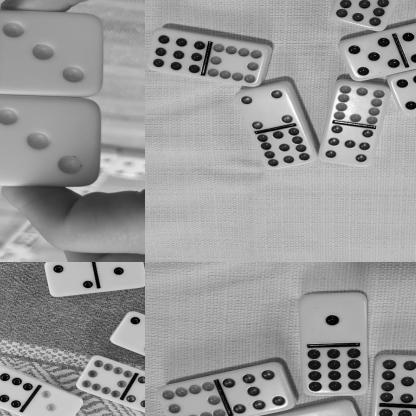pip-1: (299, 292, 367, 345), (96, 262, 145, 288)
pip-10: (207, 40, 266, 88), (330, 80, 390, 126), (77, 354, 135, 398), (157, 383, 227, 416)
pip-11: (257, 128, 318, 170), (375, 355, 416, 407), (333, 0, 395, 32)
pip-12: (304, 346, 369, 395)
pip-2: (44, 262, 96, 297), (110, 311, 145, 355), (295, 401, 367, 416)
pip-3: (0, 95, 100, 186), (0, 11, 104, 91), (29, 390, 83, 416)
pip-4: (236, 86, 294, 131)
pip-5: (336, 35, 401, 79)
pip-6: (0, 365, 34, 409), (390, 69, 416, 114), (402, 17, 416, 64)
pip-7: (223, 365, 293, 416), (321, 124, 379, 169), (126, 376, 145, 416)
pip-9: (148, 30, 208, 78)
